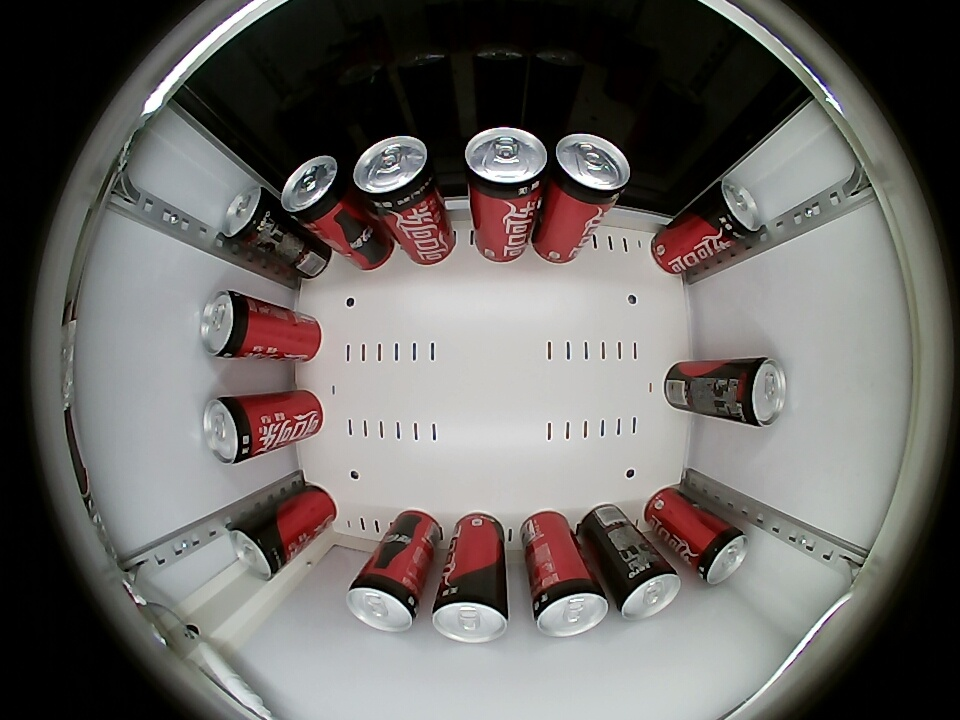lingdukele: (464, 127, 550, 205), (353, 136, 438, 214), (549, 133, 631, 208), (530, 573, 610, 637), (281, 156, 352, 227), (432, 578, 509, 643), (346, 568, 424, 632), (611, 556, 682, 620), (200, 289, 262, 361), (727, 356, 787, 428), (203, 394, 262, 465), (706, 179, 762, 251), (688, 519, 748, 585), (228, 516, 289, 579), (221, 186, 278, 252)
